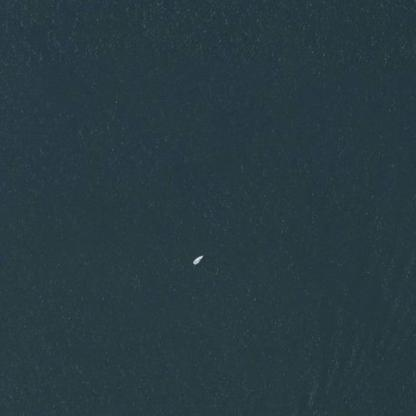ship: (190, 250, 206, 266)
